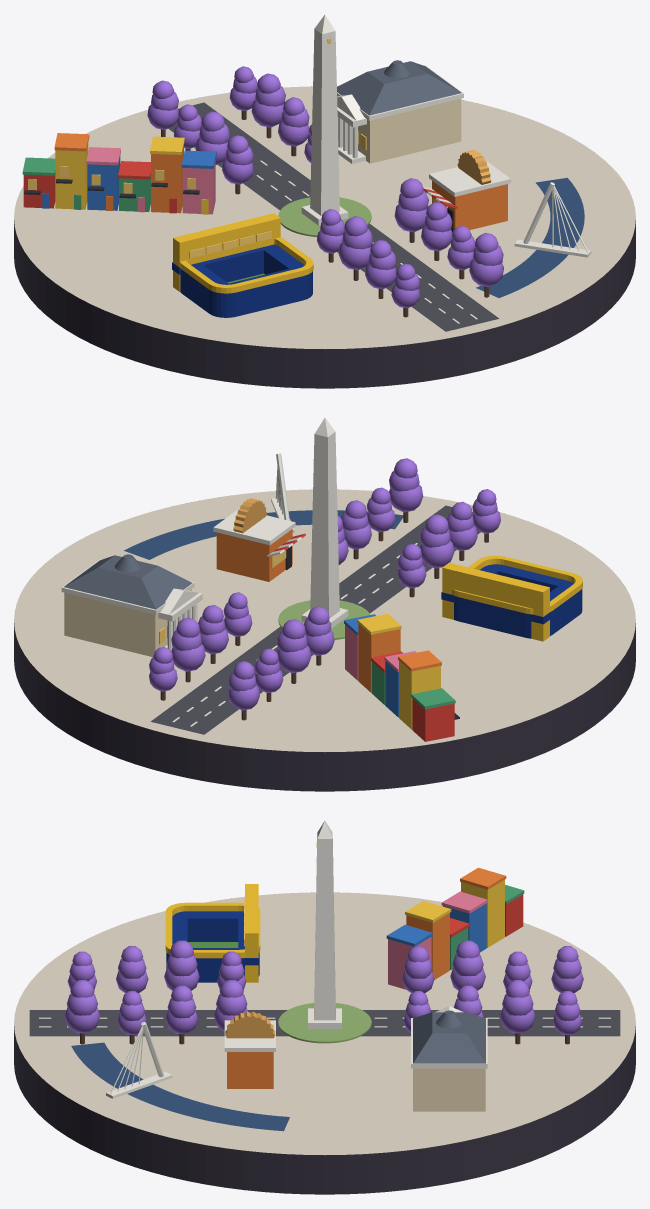
The model's file is buenos-aires.glb.
3 renders of one model, top to bottom at view 1: azimuth 30°, elevation 25°; view 2: azimuth 150°, elevation 25°; view 3: azimuth 270°, elevation 25°, orthographic.
Visible parts, largest first — view 1: DECO-base, DECO-jacarandas, DECO-avenue, bom-stands, obelisco-shaft, colon-body, DECO-dock, colon-roof, bom-flat-side, emp-body, bom-band, cam-house-1 (+16 smaller); view 2: DECO-base, DECO-jacarandas, DECO-avenue, obelisco-shaft, colon-body, bom-stands, colon-roof, bom-flat-side, emp-body, DECO-dock, bom-band, cam-house-4 (+11 smaller); view 3: DECO-base, DECO-jacarandas, DECO-avenue, DECO-dock, obelisco-shaft, colon-roof, colon-body, bom-stands, DECO-obelisco-plaza, emp-body, bom-band, cam-house-1 (+13 smaller).
Part boxes in pixels (left/top/right/bottom): DECO-base: left=14, top=86, right=635, bottom=388; DECO-jacarandas: left=147, top=66, right=503, bottom=317; DECO-avenue: left=168, top=102, right=499, bottom=331; bom-stands: left=180, top=244, right=312, bottom=317; obelisco-shaft: left=310, top=29, right=339, bottom=215; colon-body: left=358, top=98, right=461, bottom=163; DECO-dock: left=476, top=177, right=584, bottom=297; colon-roof: left=337, top=61, right=461, bottom=115; bom-flat-side: left=173, top=213, right=280, bottom=291; emp-body: left=432, top=181, right=507, bottom=229; bom-band: left=179, top=237, right=313, bottom=293; cam-house-1: left=55, top=143, right=88, bottom=209; DECO-base: left=14, top=489, right=635, bottom=791; DECO-jacarandas: left=149, top=458, right=500, bottom=720; DECO-avenue: left=150, top=505, right=480, bottom=734; obelisco-shaft: left=310, top=432, right=339, bottom=617; colon-body: left=64, top=589, right=191, bottom=656; bom-stands: left=454, top=564, right=582, bottom=638; colon-roof: left=64, top=555, right=192, bottom=609; bom-flat-side: left=442, top=562, right=549, bottom=641; emp-body: left=216, top=529, right=292, bottom=581; DECO-dock: left=124, top=510, right=403, bottom=559; bom-band: left=452, top=555, right=582, bottom=614; cam-house-4: left=358, top=624, right=400, bottom=692; DECO-base: left=14, top=892, right=635, bottom=1194; DECO-jacarandas: left=64, top=940, right=583, bottom=1044; DECO-avenue: left=29, top=1010, right=620, bottom=1036; DECO-dock: left=71, top=1042, right=289, bottom=1131; obelisco-shaft: left=314, top=838, right=335, bottom=1020; colon-roof: left=413, top=1012, right=485, bottom=1063; colon-body: left=413, top=1068, right=485, bottom=1111; bom-stands: left=166, top=911, right=259, bottom=982; DECO-obelisco-plaza: left=278, top=1003, right=371, bottom=1043; emp-body: left=227, top=1052, right=273, bottom=1088; bom-band: left=165, top=902, right=260, bottom=958; cam-house-1: left=461, top=879, right=504, bottom=947.
Bounding box in the file's own units: 2 × 0.8616 × 2.
